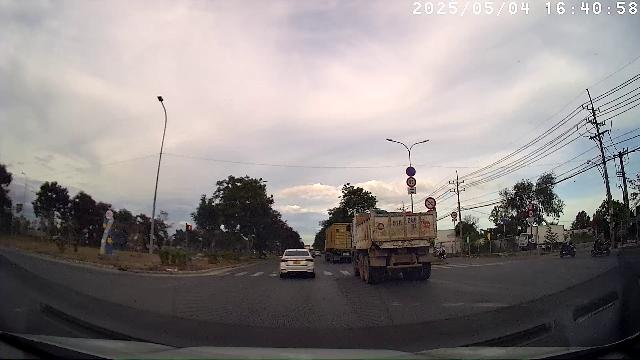127-toc-do-toi-da-80: (406, 177, 416, 187)
